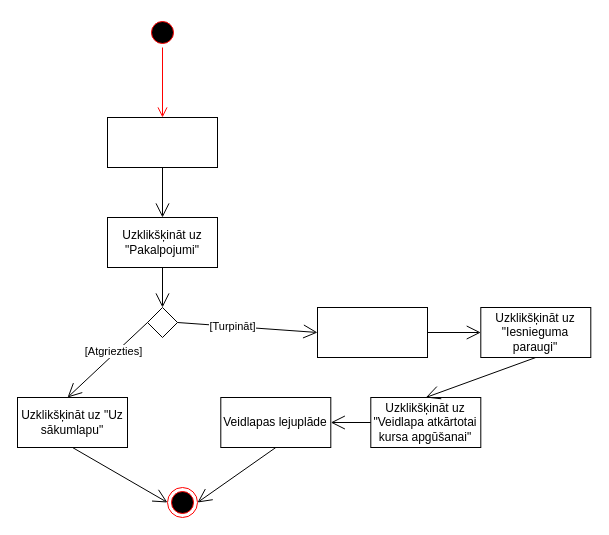
The diagram is 609 pixels wide and 535 high, and some of its shapes have lost their labels. The shapes that lost their labels are listed below. From the top down, each one's centre as x and y in pixels, then its label:
point (162, 142): Atvērt sākumlapu
point (372, 332): Uzklikšķināt uz "Studējošajiem"
